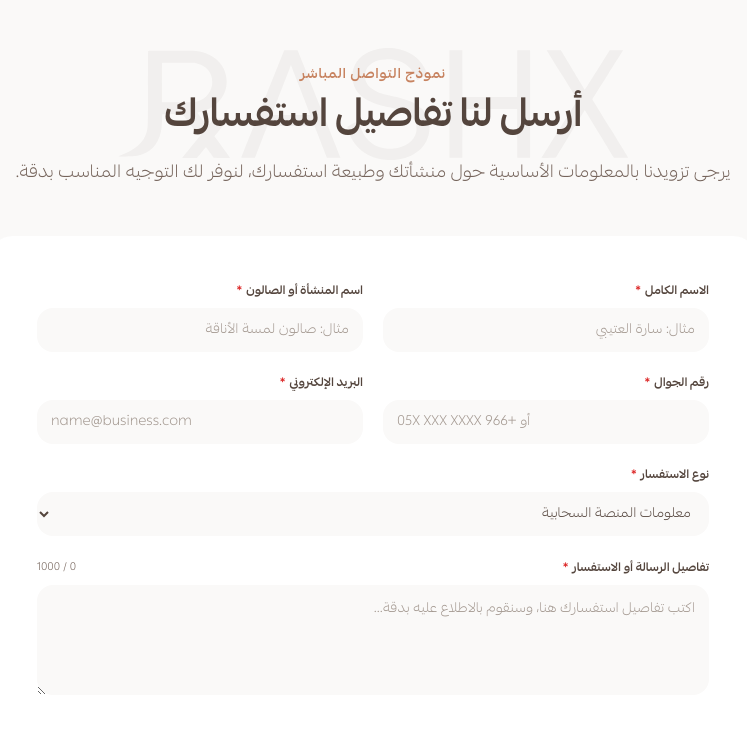
Test case: RASHX Contact Page Sections Suite › Section B: ContactForm › handles backend absence honestly without displaying fake success
Step 1. Type "سارة محمد" into the field labelled "الاسم الكامل*" → (546,330), box left=383, top=308, right=709, bottom=352
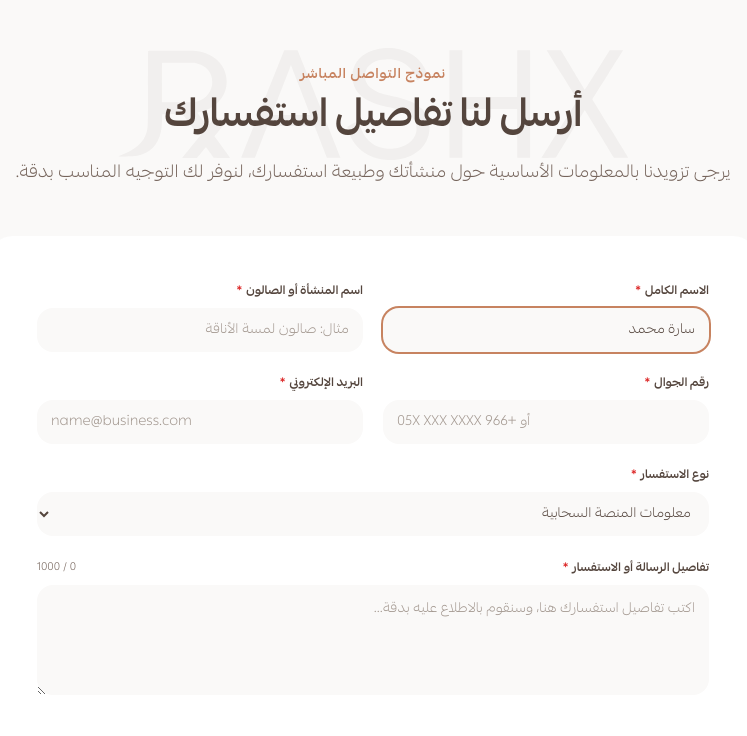
Step 2. Type "صالون الجمال الراقي" into the field labelled "اسم المنشأة أو الصالون*" → (200,330), box left=37, top=308, right=363, bottom=352
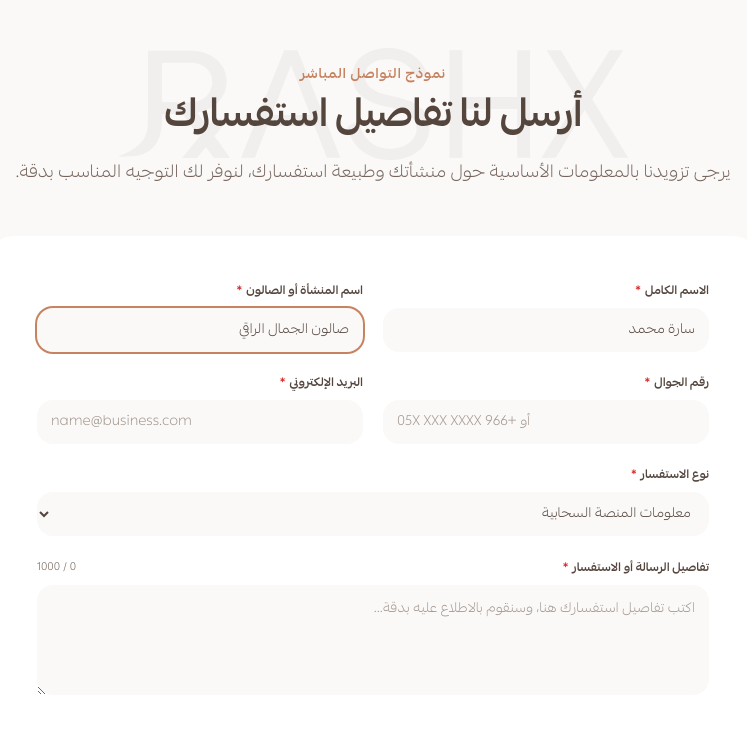
Step 3. Type "0548082945" into the field labelled "رقم الجوال*" → (546,422), box left=383, top=400, right=709, bottom=444
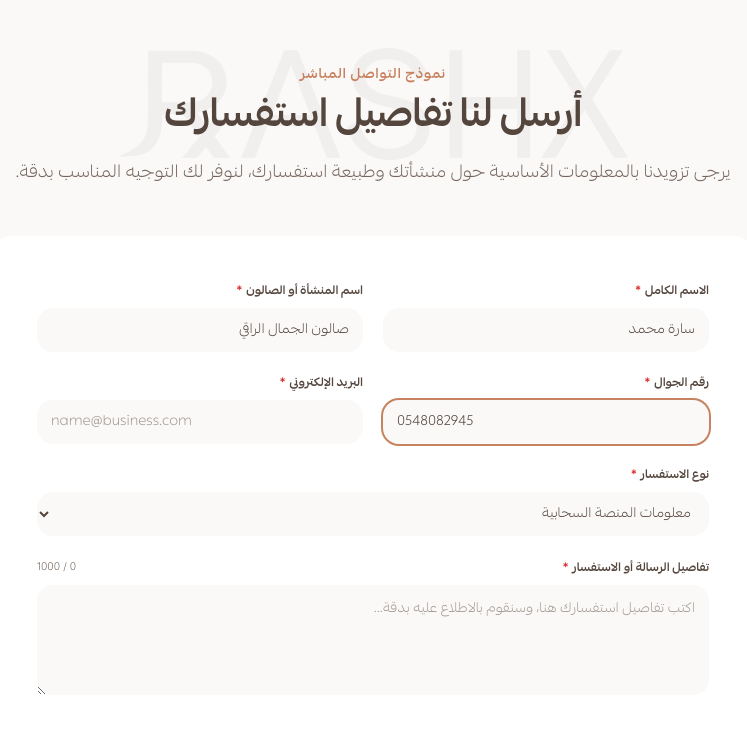
Step 4. Type "sarah@salon.com" into the field labelled "البريد الإلكتروني*" → (200,422), box left=37, top=400, right=363, bottom=444
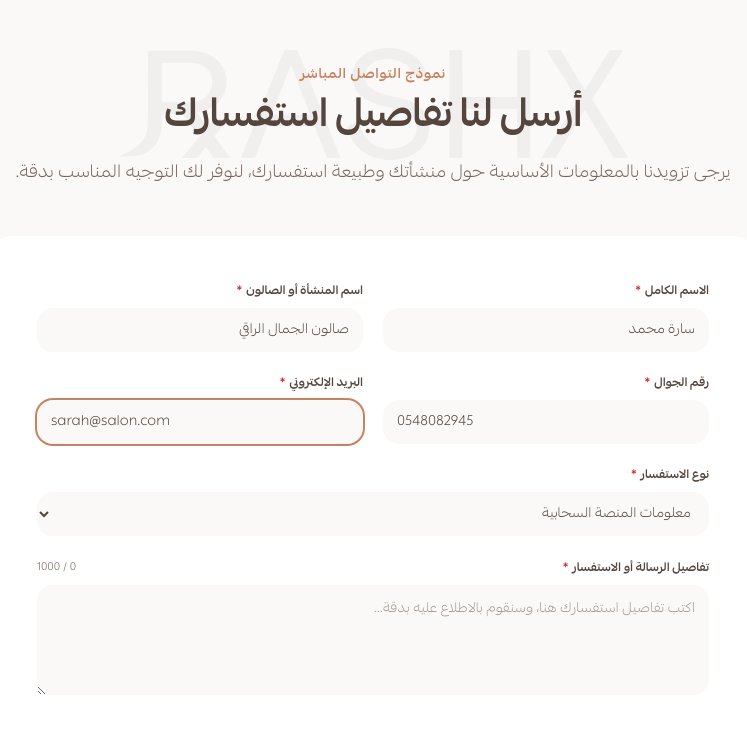
Step 5. Type "نود الاستفسار عن إمكانية تجربة المنظومة وإدارة 3 فروع صالون تجميل." into the text box labelled "تفاصيل الرسالة أو الاستفسار*" → (373,640), box left=37, top=585, right=709, bottom=695
(page scrolled)
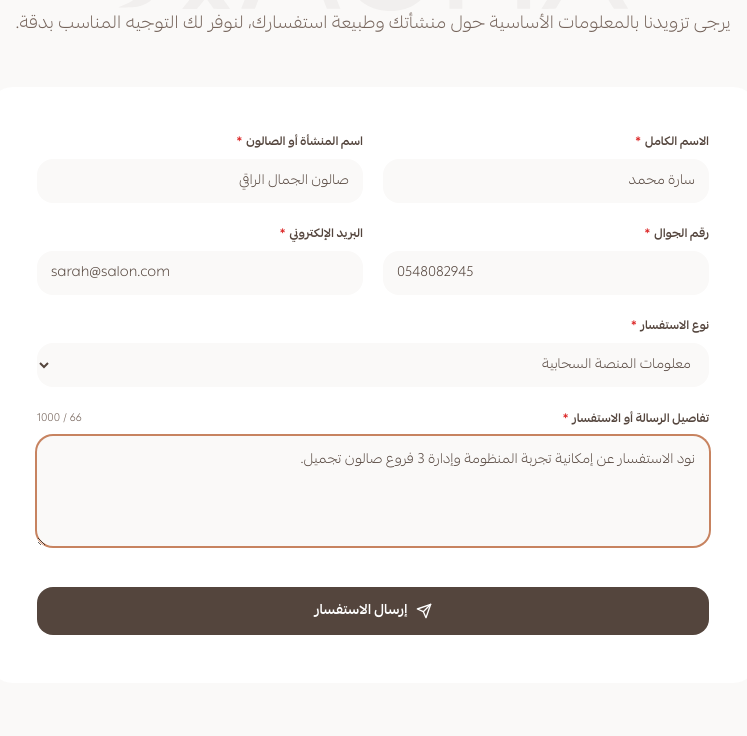
Step 6. Click the button "إرسال الاستفسار" → (373,611), box left=37, top=587, right=709, bottom=635
(page scrolled)
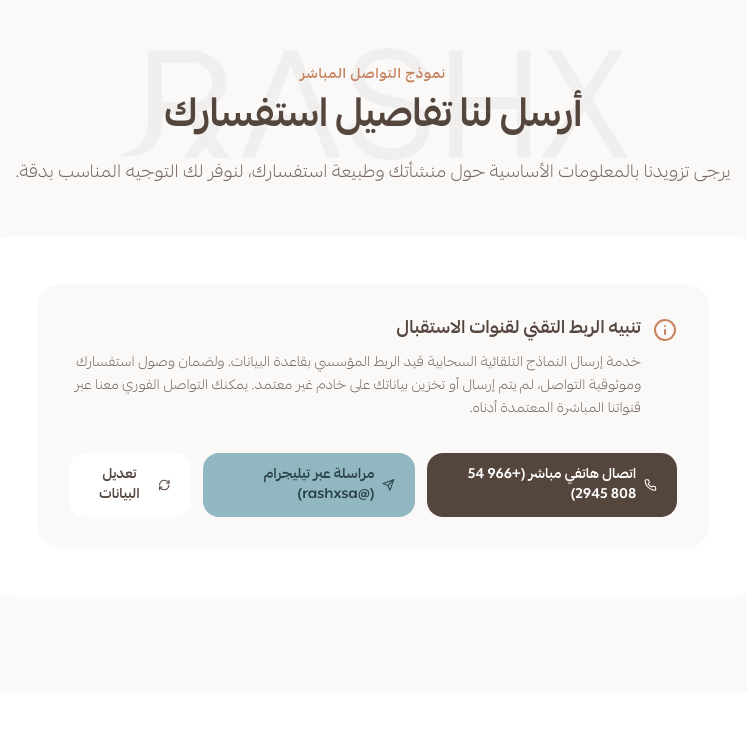
Expected: the heading "تنبيه الربط التقني لقنوات الاستقبال" is shown, left=397, top=315, right=641, bottom=344
